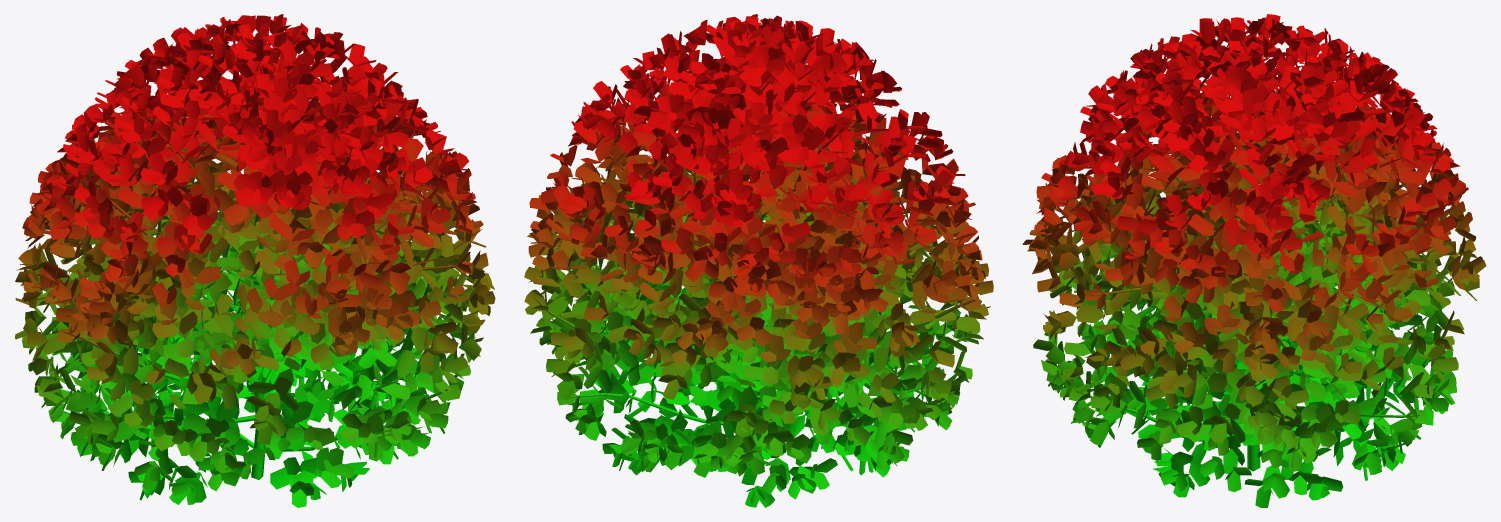
Rendered from Var8_LOD4.fbx.
3 renders of one model, left to right at view 1: azimuth 30°, elevation 25°; view 2: azimuth 150°, elevation 25°; view 3: azimuth 270°, elevation 25°, orthographic. The views are drawn at different scales.
Parts seen in each view (by area): view 1: _ph95_Var8_LOD4; view 2: _ph95_Var8_LOD4; view 3: _ph95_Var8_LOD4.
Part boxes in pixels (bbox=[...]): _ph95_Var8_LOD4: bbox=[15, 14, 495, 507]; _ph95_Var8_LOD4: bbox=[524, 14, 993, 507]; _ph95_Var8_LOD4: bbox=[1022, 14, 1486, 507].
Bounding box in the file's own units: 48.65 × 49.33 × 47.15.
